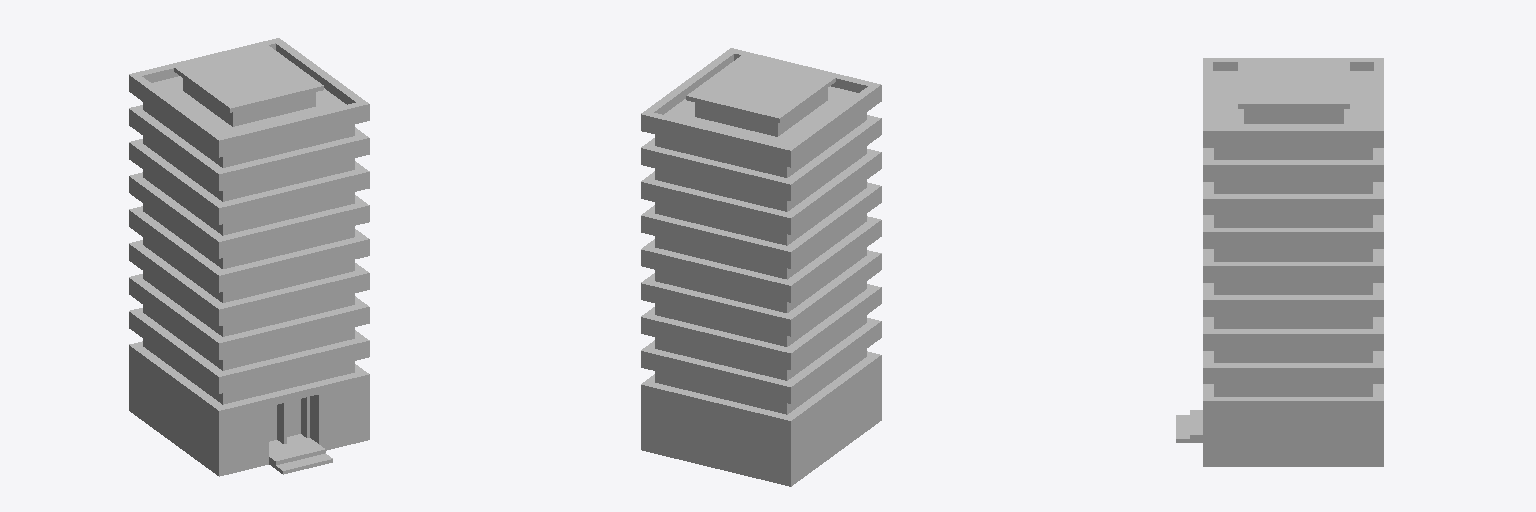
File: building2.obj
3 renders of one model, left to right at view 1: azimuth 30°, elevation 25°; view 2: azimuth 150°, elevation 25°; view 3: azimuth 270°, elevation 25°, orthographic.
Visible parts, largest first — view 1: Box001; view 2: Box001; view 3: Box001.
Part boxes in pixels (bbox=[...]): Box001: bbox=[129, 38, 369, 476]; Box001: bbox=[641, 48, 881, 486]; Box001: bbox=[1176, 58, 1383, 466].
Bounding box in the file's own units: 37.29 × 82.56 × 44.82.